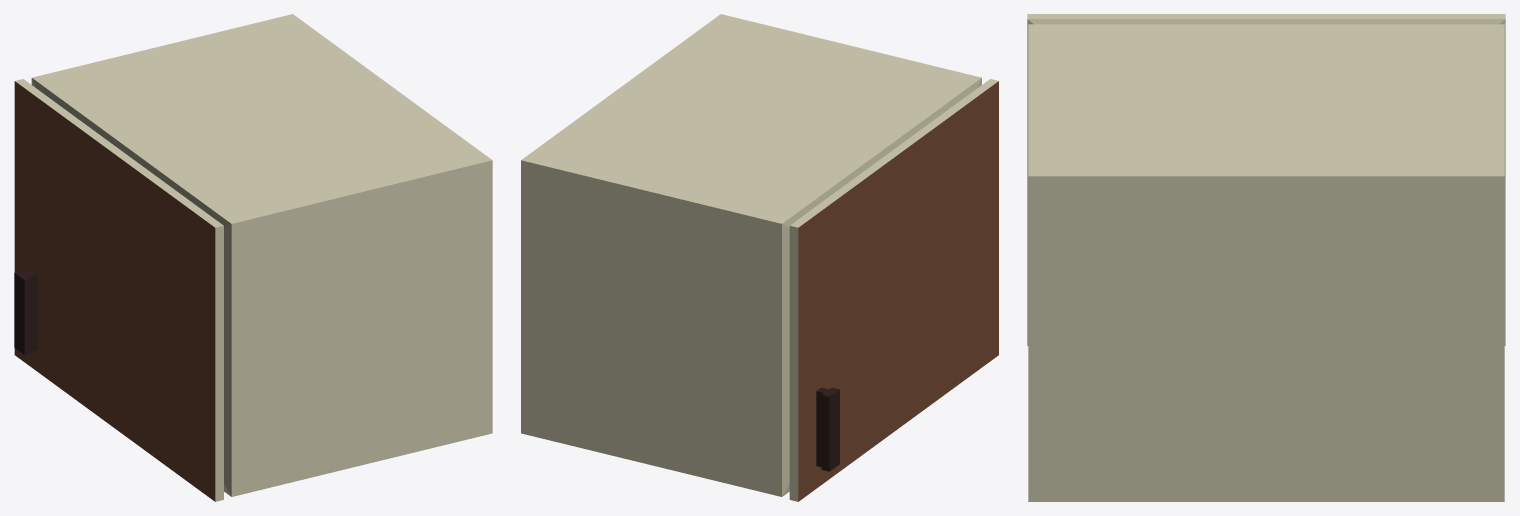
File: right cabinet.fbx
3 views of the same model, side by side, from view 1: azimuth 30°, elevation 25°; view 2: azimuth 150°, elevation 25°; view 3: azimuth 270°, elevation 25° (orthographic). The views are drawn at different scales.
Parts seen in each view (by area): view 1: Cube.021, Cube.020; view 2: Cube.021, Cube.020; view 3: Cube.021.
Part boxes in pixels (left/top/right/bottom): Cube.021: left=14, top=14, right=492, bottom=501; Cube.020: left=14, top=270, right=37, bottom=354; Cube.021: left=521, top=14, right=998, bottom=501; Cube.020: left=816, top=387, right=839, bottom=471; Cube.021: left=1027, top=14, right=1505, bottom=501.
Bounding box in the file's own units: 1005 × 897 × 1189.
